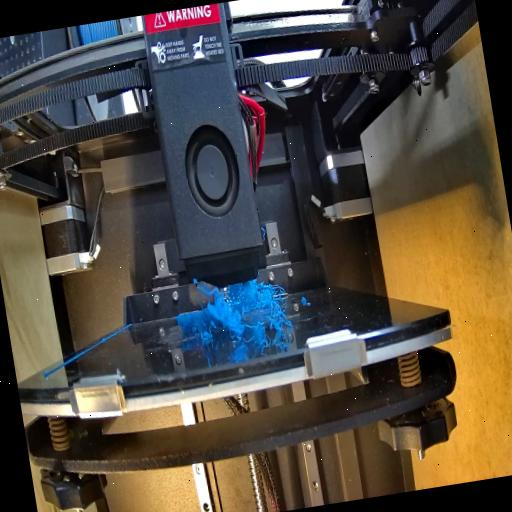spaghetti: (192, 269, 292, 350)
